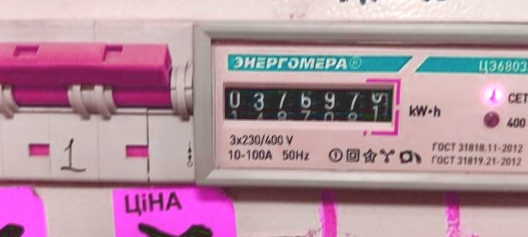0: (227, 88, 240, 108)
1: (369, 103, 380, 121)
3: (251, 90, 264, 110)
6: (298, 87, 311, 108)
7: (274, 88, 287, 109), (346, 89, 358, 111)
9: (322, 89, 334, 110)
screen: (214, 73, 404, 136)
